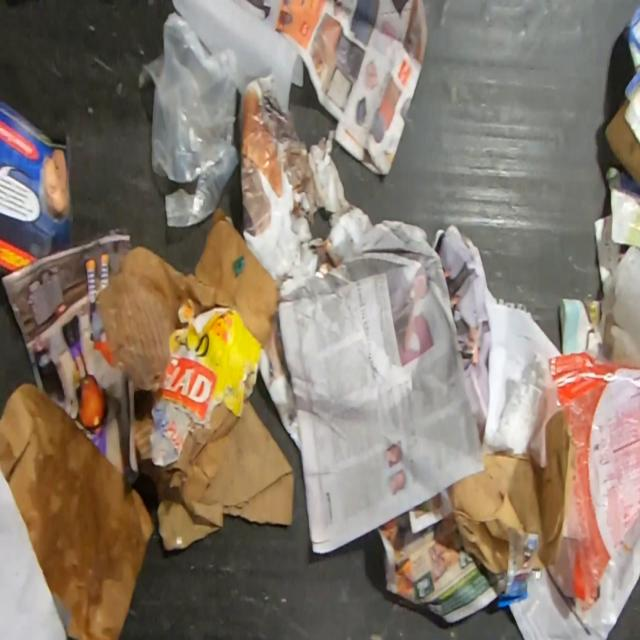cardboard: (92, 204, 283, 465), (0, 378, 155, 640), (137, 398, 296, 553), (603, 0, 640, 190), (545, 351, 623, 399)
soft_plastic: (503, 365, 640, 640), (137, 7, 248, 227)
